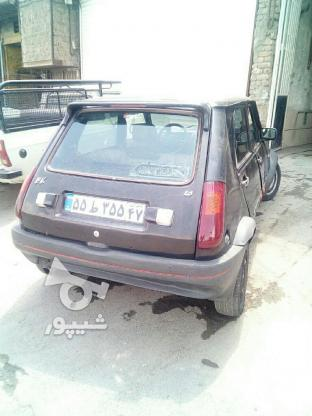car: (63, 190, 145, 226)
